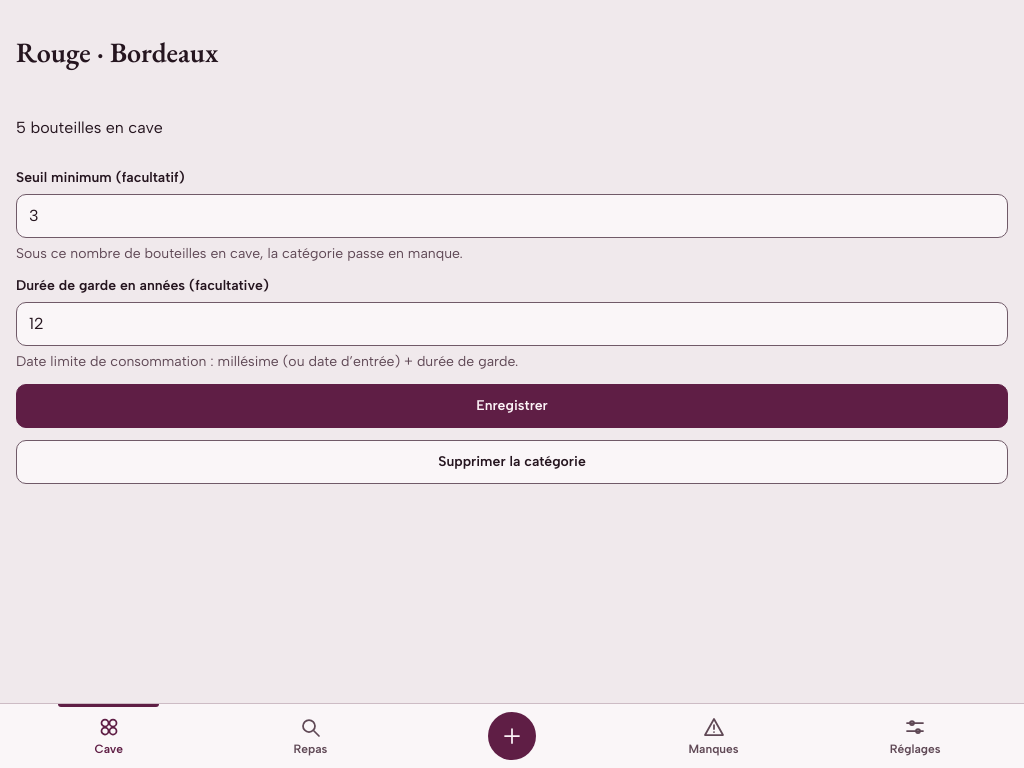
Catégories (CdC §2.5, §3.9) › modification : seuil et durée de garde pré-remplis, vider le seuil l’envoie à null
Expected: the heading "Rouge · Bordeaux" is shown, [16,34,218,70]
Expected: the text "5 bouteilles en cave" is shown, [16,118,163,136]
Clear the field labelled "Seuil minimum (facultatif)" at (512, 216), box [16,194,1008,238]
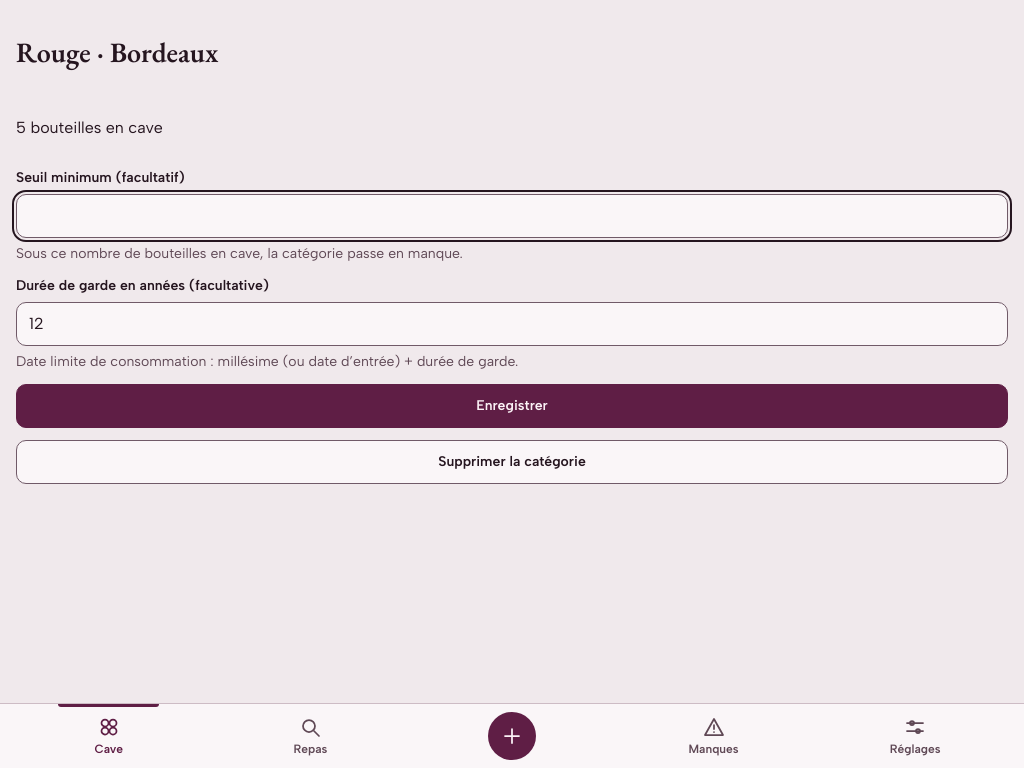
Replace the text in the field labelled "Durée de garde en années (facultative)" with "15" at (512, 324), box [16,302,1008,346]
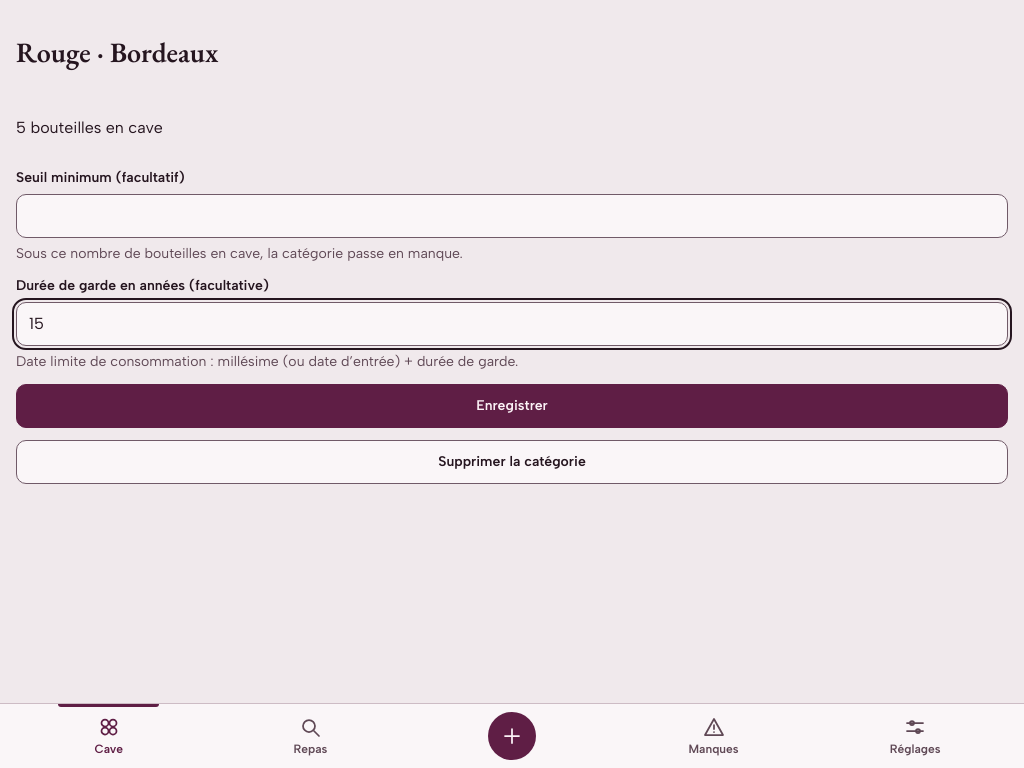
Click the button "Enregistrer" at (512, 406), box [16,384,1008,428]
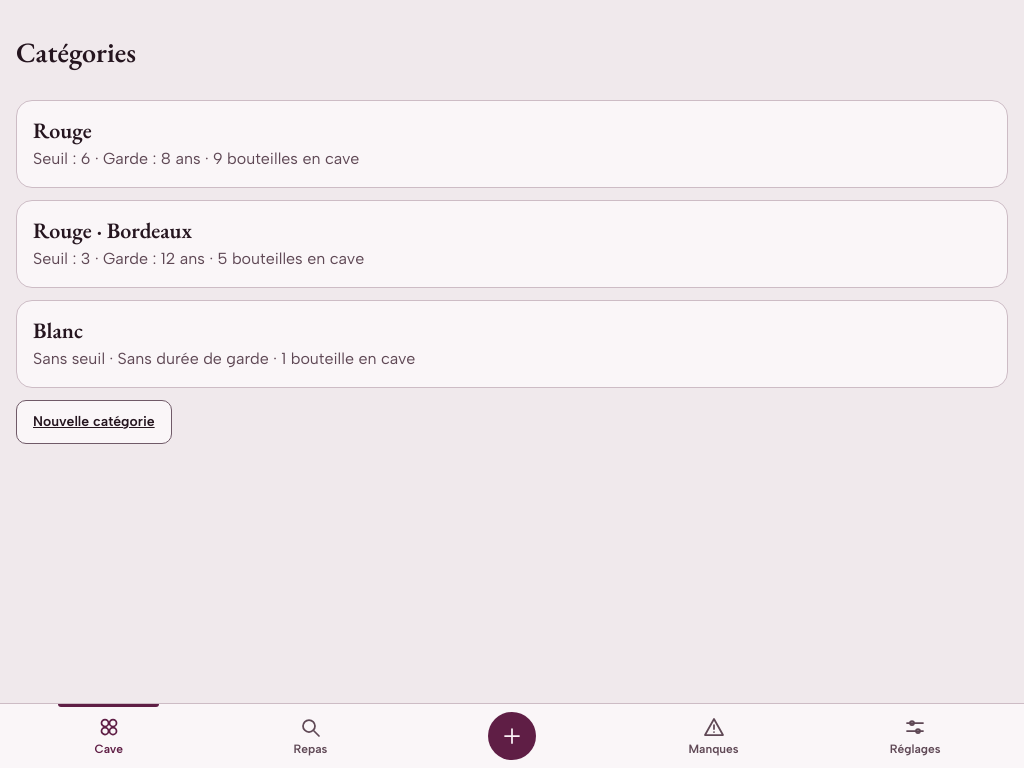
Expected: the heading "Catégories" is shown, [16,34,136,70]
